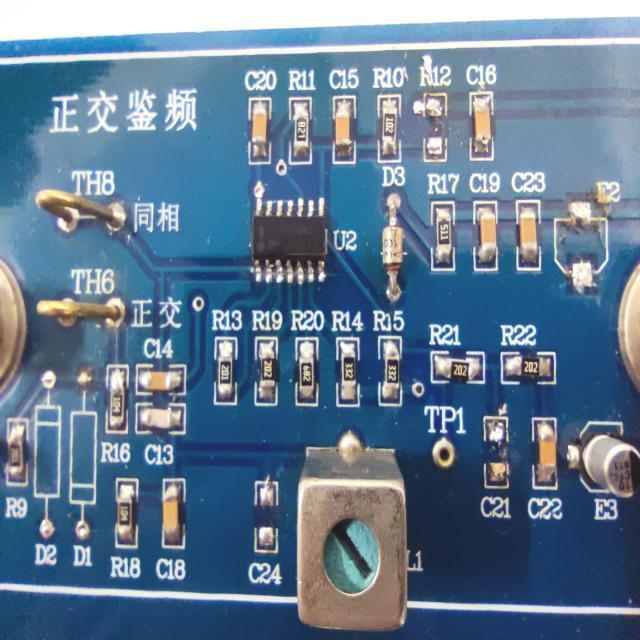Missing component: (549, 173, 622, 300), (30, 360, 64, 572), (68, 363, 100, 569), (411, 58, 457, 168), (244, 472, 286, 592), (476, 406, 517, 524)
